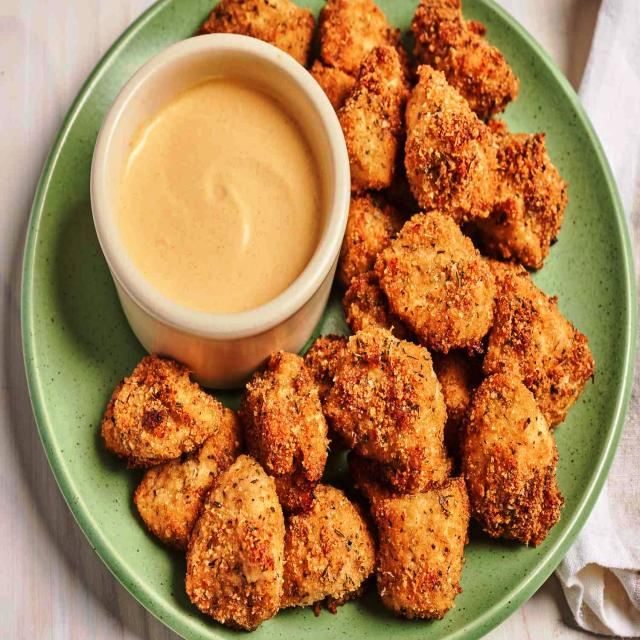chicken_nuggets: (102, 329, 562, 627), (324, 0, 596, 426)
